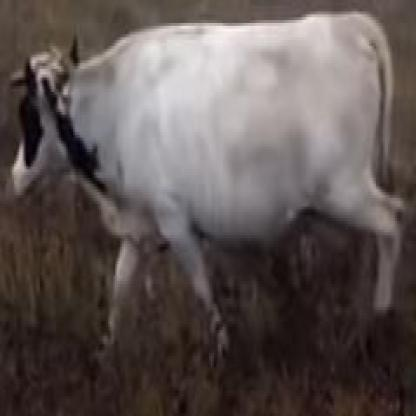cow: (7, 13, 407, 369)
